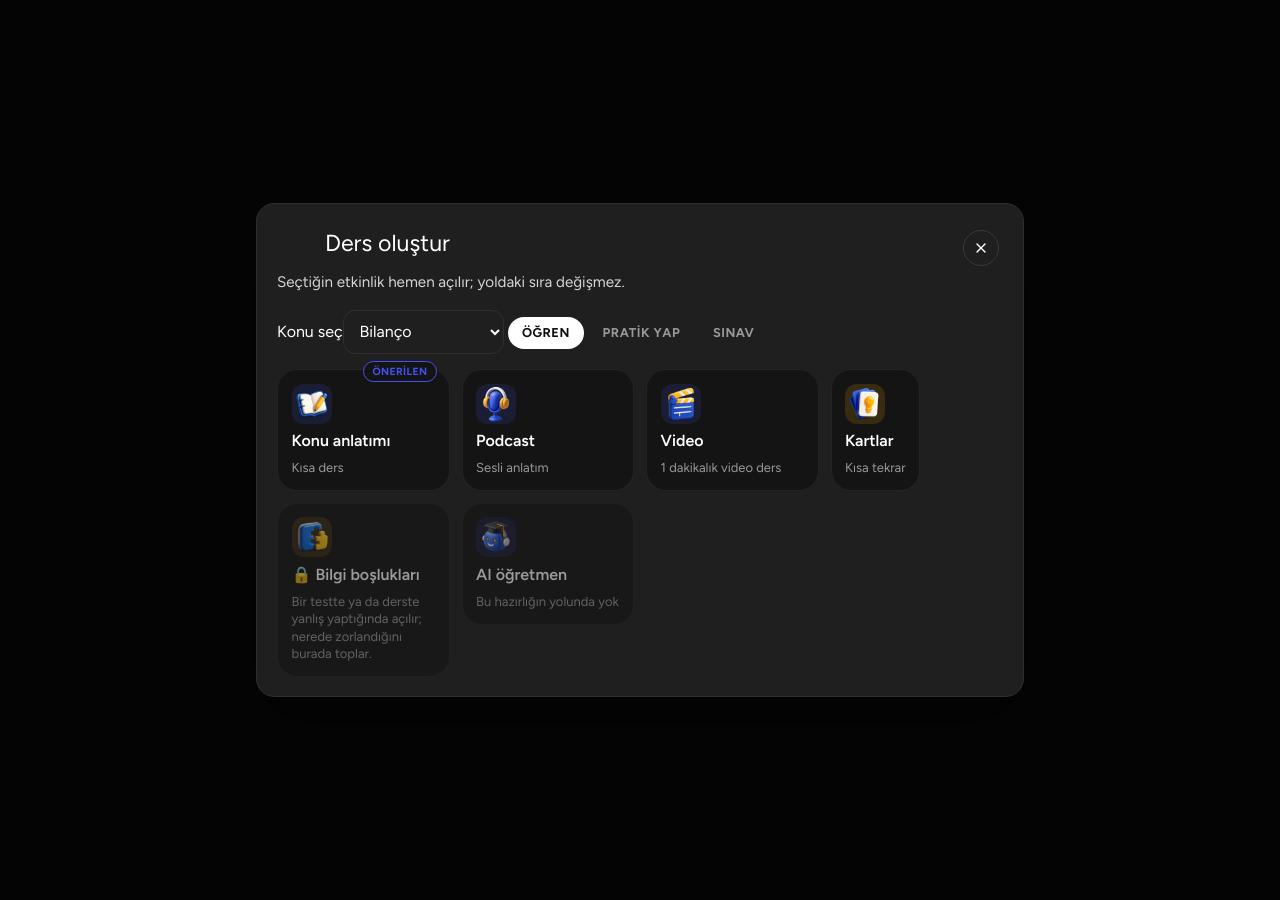
Ders oluştur penceresi: düğümü olmayan etkinlik kurulur › uç düşerse öğrenciye ne olduğu söylenir, sayfa yerinde kalır
Step 1. Click the tab "Pratik yap" → (641, 333), box [588,317,695,349]
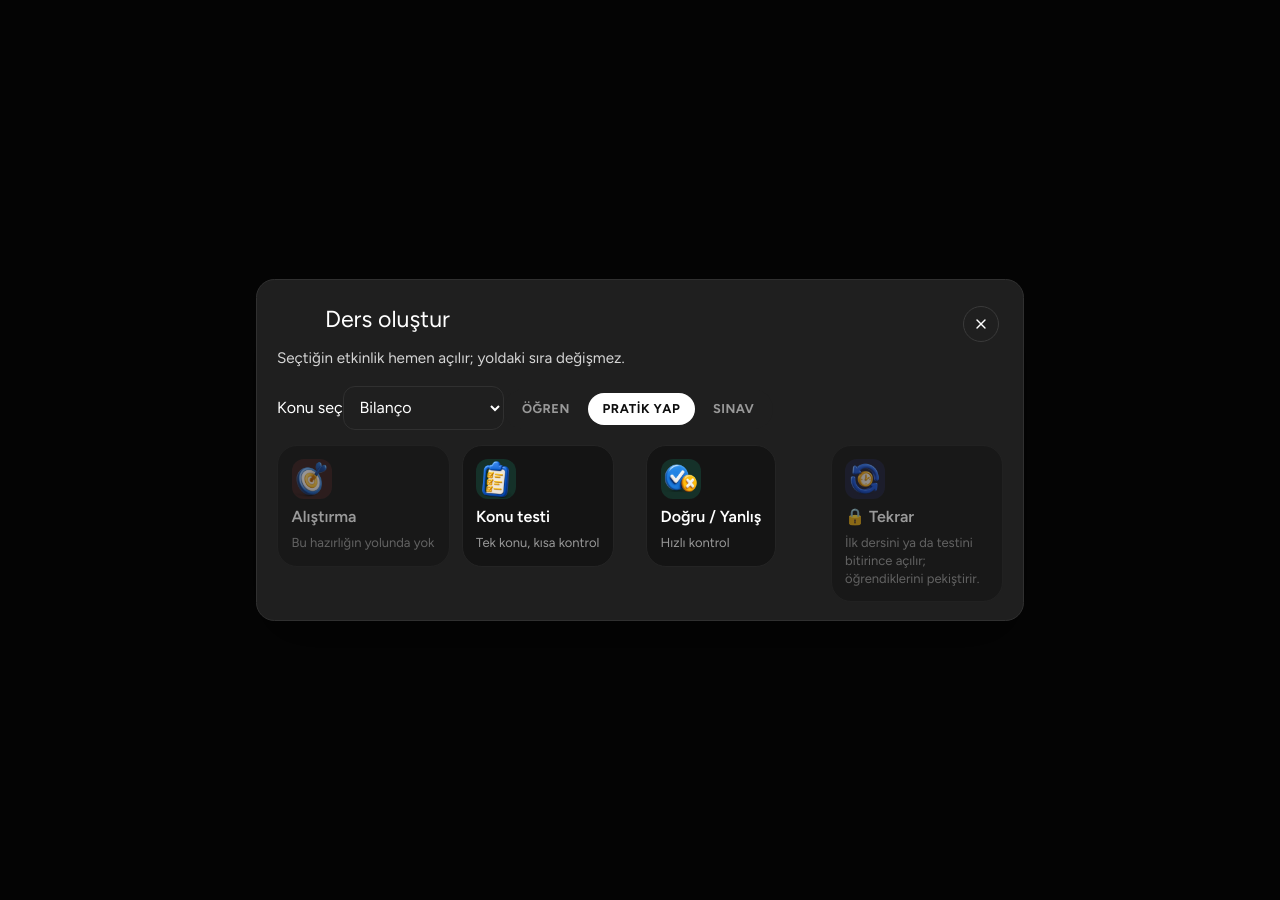
Step 2. Click the button "Konu testi Tek konu, kısa kontrol" → (538, 506), box [462,445,614,567]
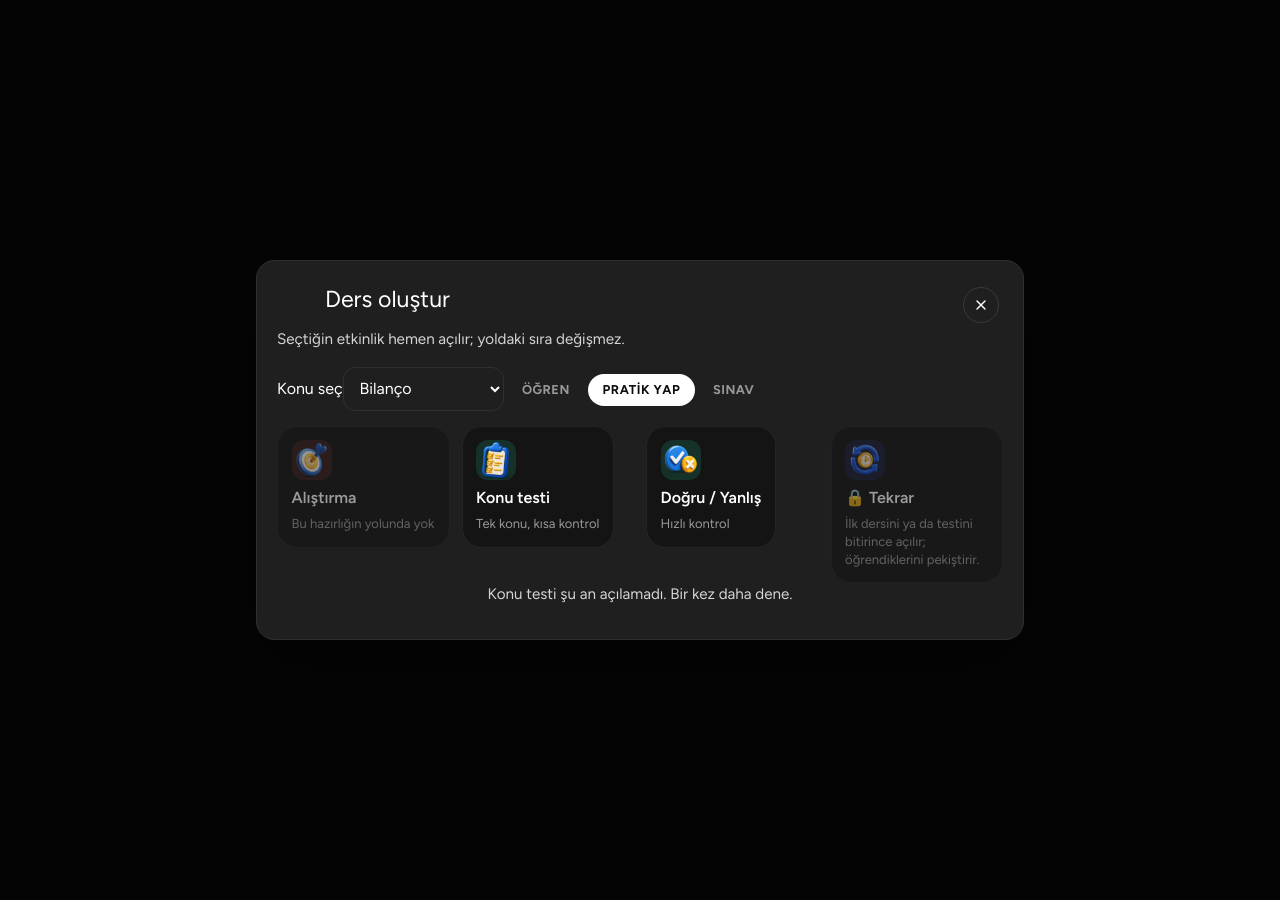
Check: the message reads "Konu testi şu an açılamadı. Bir kez daha dene.", box [488,585,792,603]
